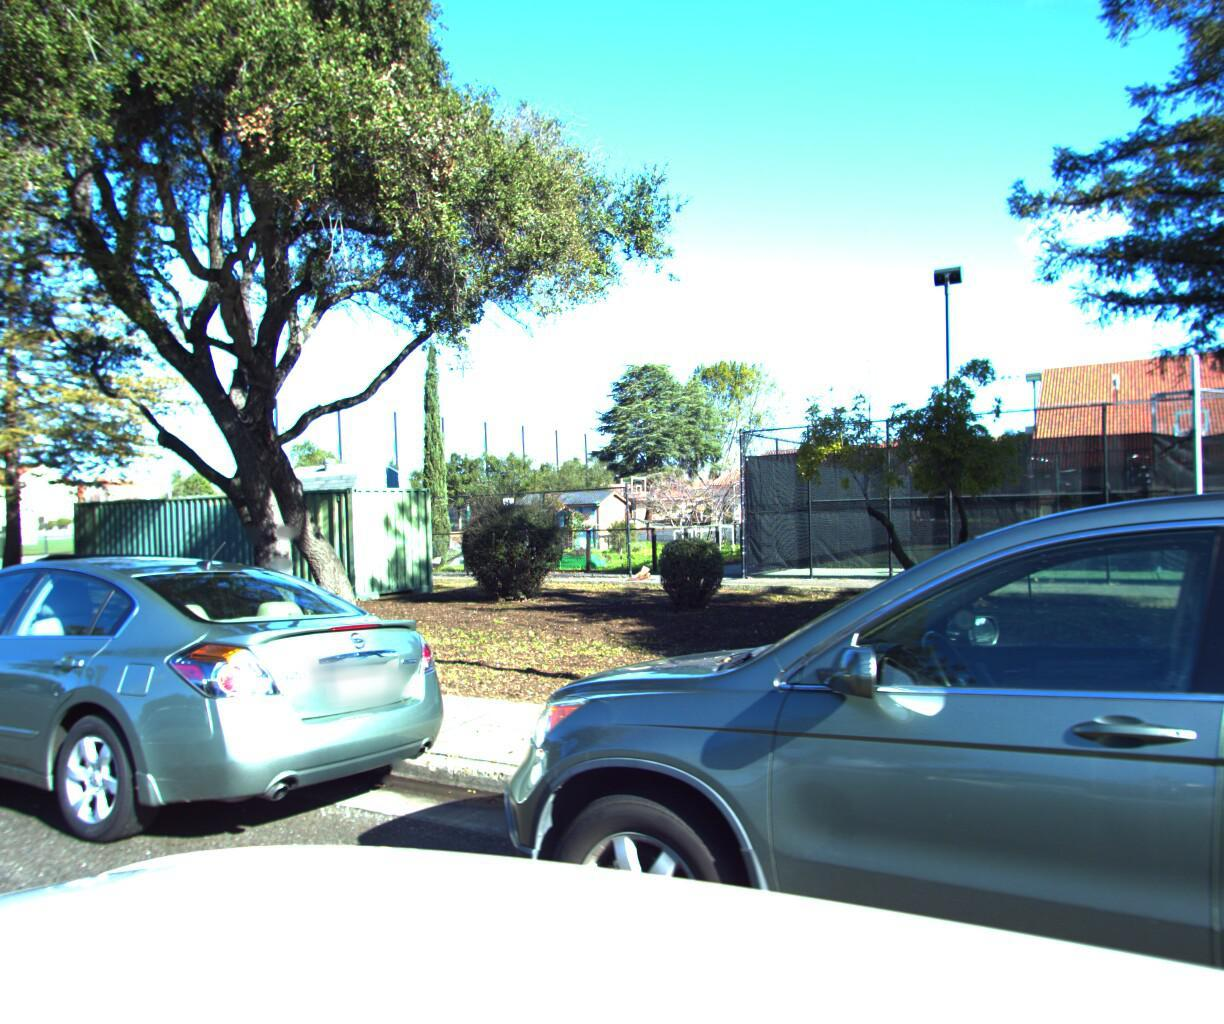car: (386, 458, 1224, 1024), (0, 538, 479, 896)
